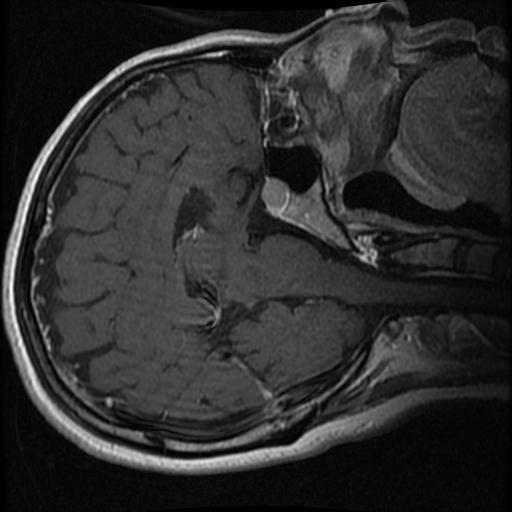pituitary tumour: (260, 177, 289, 213)
